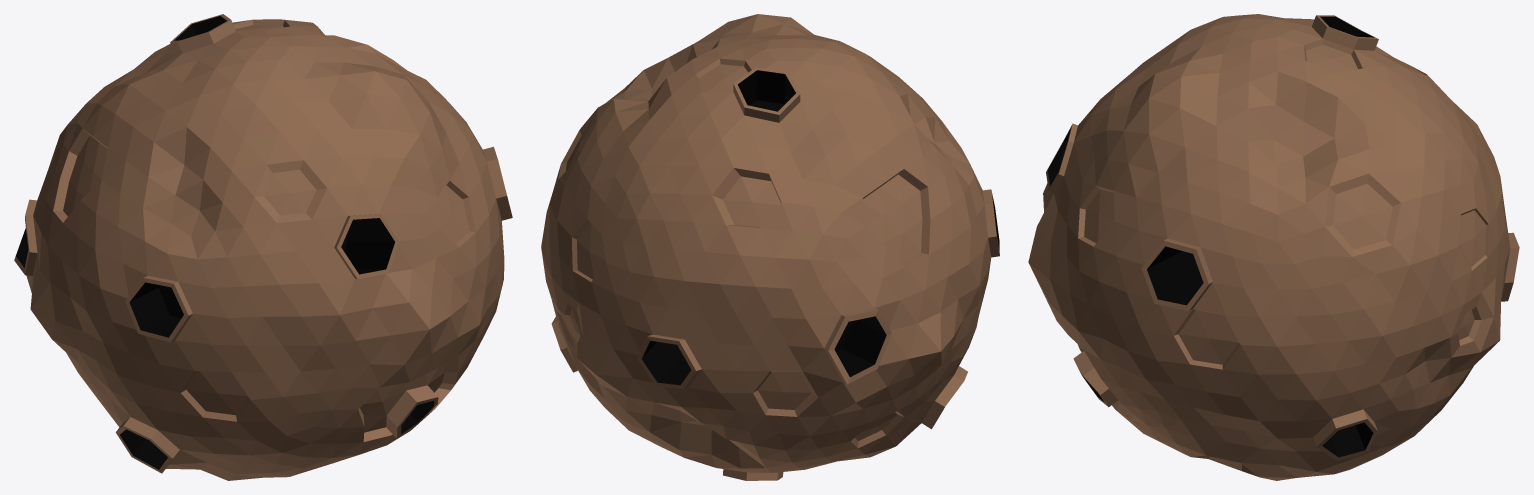
Rendered from Moon.fbx.
The picture shows the model from 3 angles, left to right: view 1: azimuth 30°, elevation 25°; view 2: azimuth 150°, elevation 25°; view 3: azimuth 270°, elevation 25°; orthographic projection. The views are drawn at different scales.
Parts seen in each view (by area): view 1: Moon; view 2: Moon; view 3: Moon.
Boxes of the visible parts, x1,y1,x2,y2 form: Moon: (14, 14, 512, 480); Moon: (541, 14, 999, 480); Moon: (1028, 14, 1519, 480).
Size of the model in its own units: 463 by 457 by 475.
